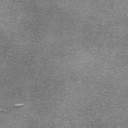finishing roll printing: (13, 104, 25, 108)
